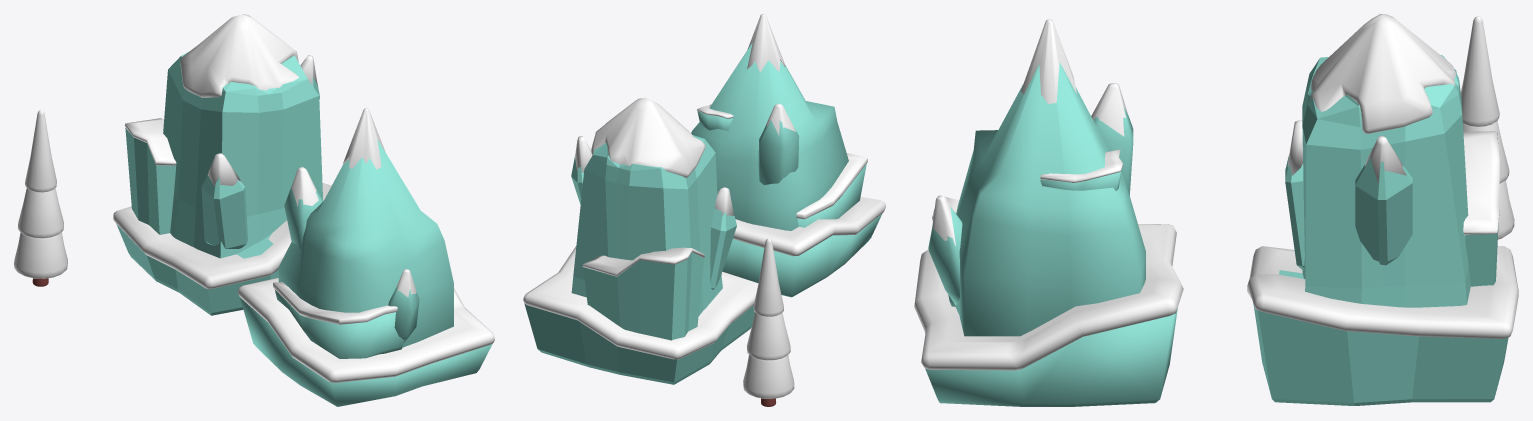
File: TowerDefense_Snow_Assets.fbx
The picture shows the model from 3 angles, left to right: view 1: azimuth 30°, elevation 25°; view 2: azimuth 150°, elevation 25°; view 3: azimuth 270°, elevation 25°; orthographic projection. The views are drawn at different scales.
Visible parts, largest first — view 1: Castle_Angular, Castle_Angular_Smooth_Snow, TreeTrunk; view 2: Castle_Angular, Castle_Angular_Smooth_Snow, TreeTrunk; view 3: Castle_Angular, Castle_Angular_Smooth_Snow, TreeTrunk.
Boxes of the visible parts, x1,y1,x2,y2 form: Castle_Angular: (113,14,331,315); Castle_Angular_Smooth_Snow: (238,108,494,406); TreeTrunk: (14,110,67,286); Castle_Angular: (523,97,758,384); Castle_Angular_Smooth_Snow: (691,14,885,297); TreeTrunk: (743,238,794,406); Castle_Angular: (1247,14,1518,405); Castle_Angular_Smooth_Snow: (914,19,1183,406); TreeTrunk: (1461,16,1514,239).
Bounding box in the file's own units: 193 × 170 × 272.
